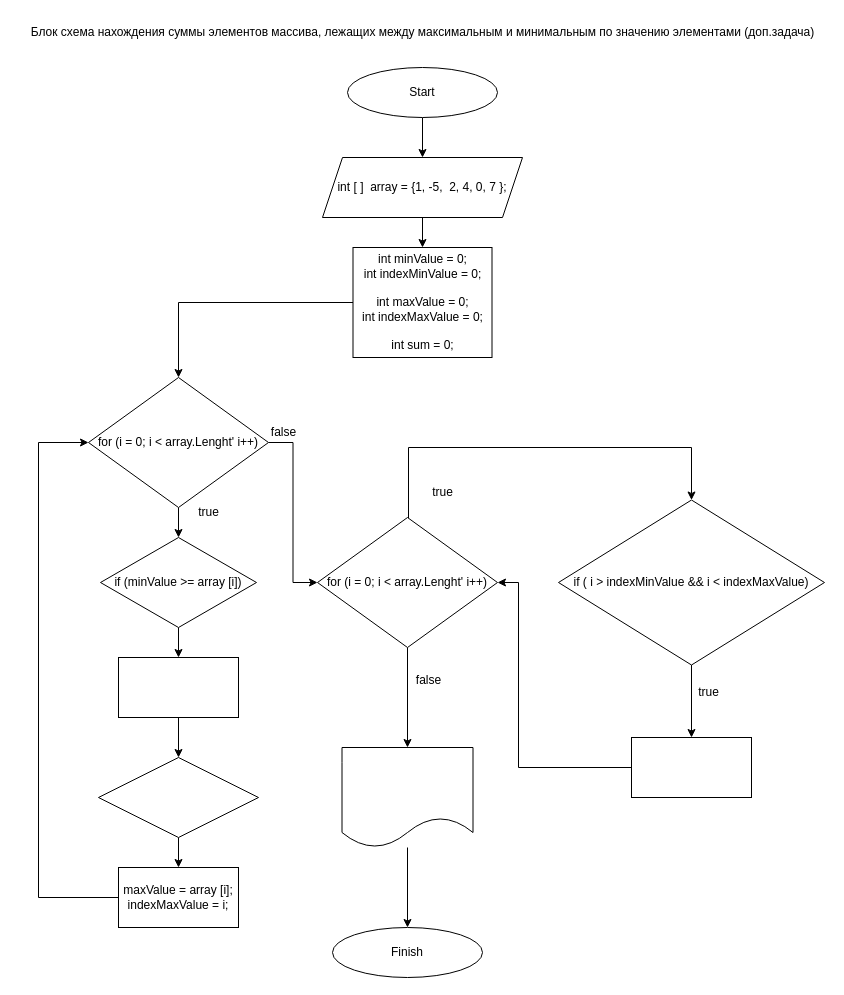
Image size: 844x995. Some labels were removed from this diagram. Each missing label, with the centre of its shape:
"if (maxValue <= array [i])" belongs at pixel 178 797.
"minValue = array [i]; indexMinValue = i;" belongs at pixel 178 687.
"Print(sum);" belongs at pixel 407 797.
"sum += array [i];" belongs at pixel 691 767.
